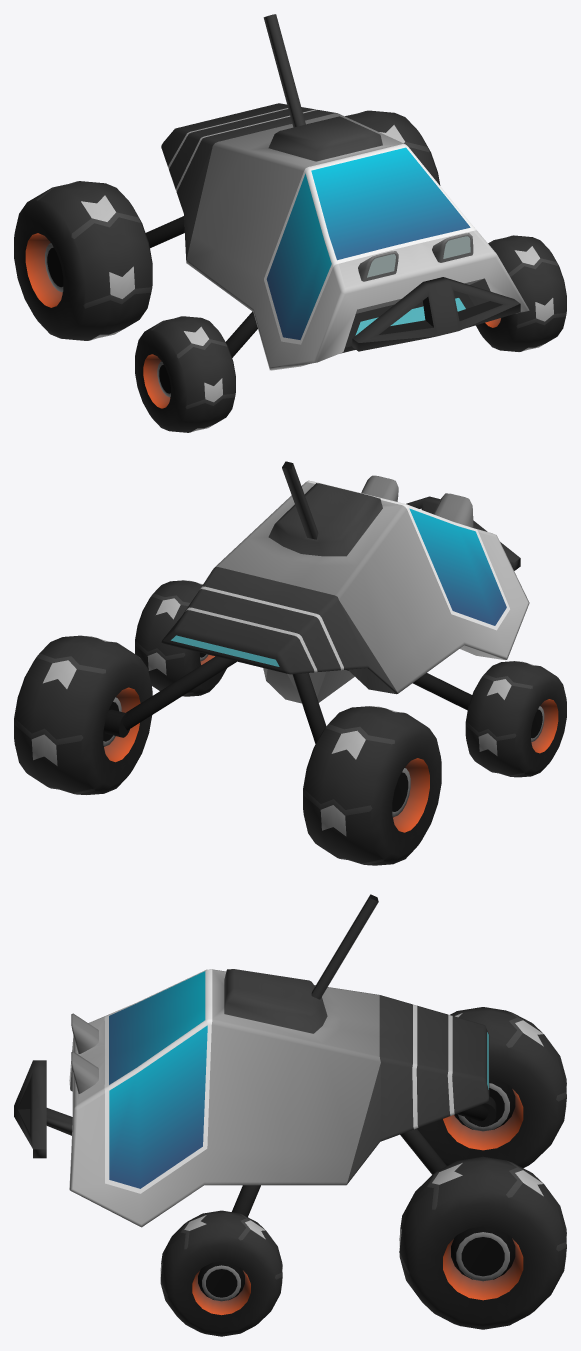
Rendered from Space_Rover_01.fbx.
3 renders of one model, top to bottom at view 1: azimuth 30°, elevation 25°; view 2: azimuth 150°, elevation 25°; view 3: azimuth 270°, elevation 25°, orthographic. The views are drawn at different scales.
Parts seen in each view (by area): view 1: Space_Rover_01; view 2: Space_Rover_01; view 3: Space_Rover_01.
Part boxes in pixels (<box>): Space_Rover_01: <box>14,14,566,432</box>; Space_Rover_01: <box>14,461,566,865</box>; Space_Rover_01: <box>14,894,566,1336</box>.
Bounding box in the file's own units: 363 × 289 × 422.
